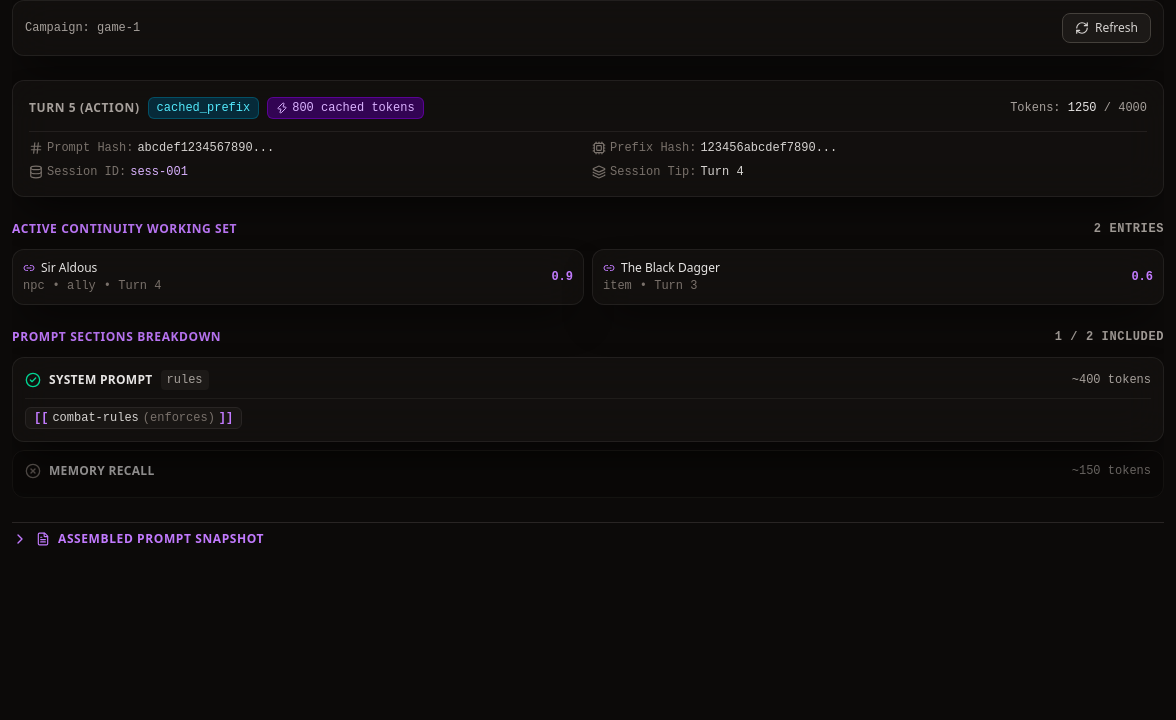
Test case: ContextDrawer › toggles assembled prompt snapshot view
The image size is (1176, 720).
Expected: the text "Assembled Prompt Snapshot" is shown, x1=58 y1=531 x2=264 y2=547
Expected: the text "You are the Game Master narrating a grim fantasy world." is not shown
Click the button "Assembled Prompt Snapshot". click: (138, 539)
box: x1=12 y1=531 x2=264 y2=547
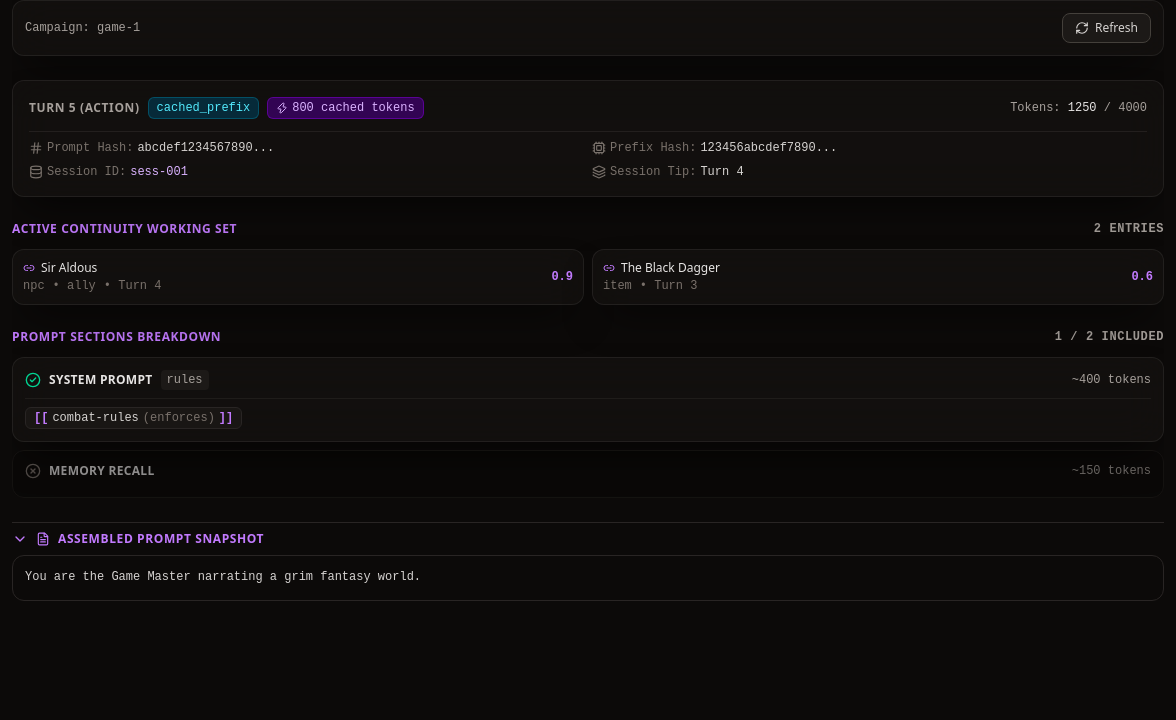
Expected: the text "You are the Game Master narrating a grim fantasy world." is shown, x1=12 y1=555 x2=1164 y2=600
Click the button "Assembled Prompt Snapshot". click: (138, 539)
box: x1=12 y1=531 x2=264 y2=547
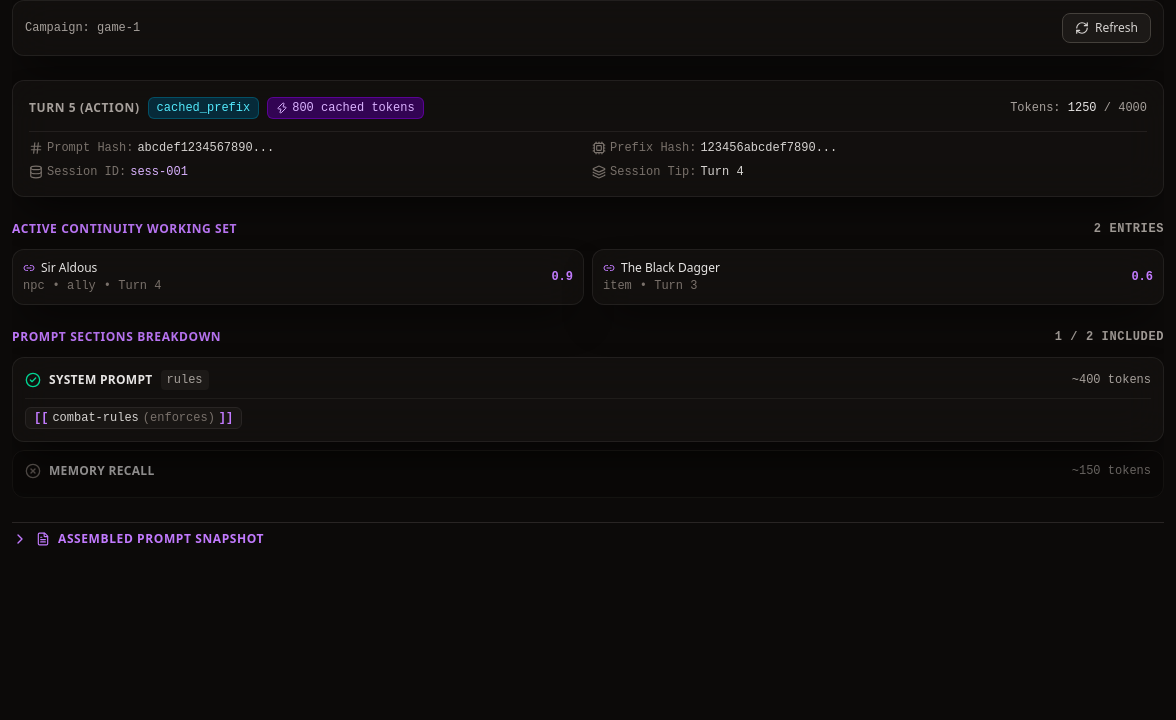
Expected: the text "You are the Game Master narrating a grim fantasy world." is gone
